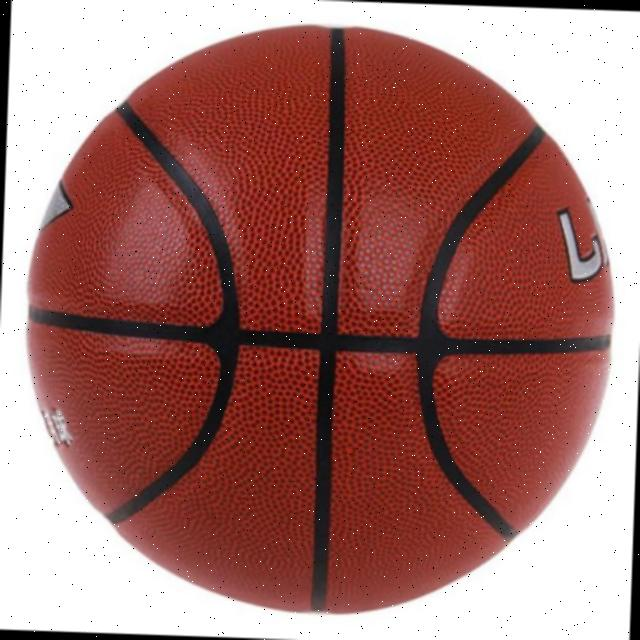ball: (16, 14, 627, 624)
